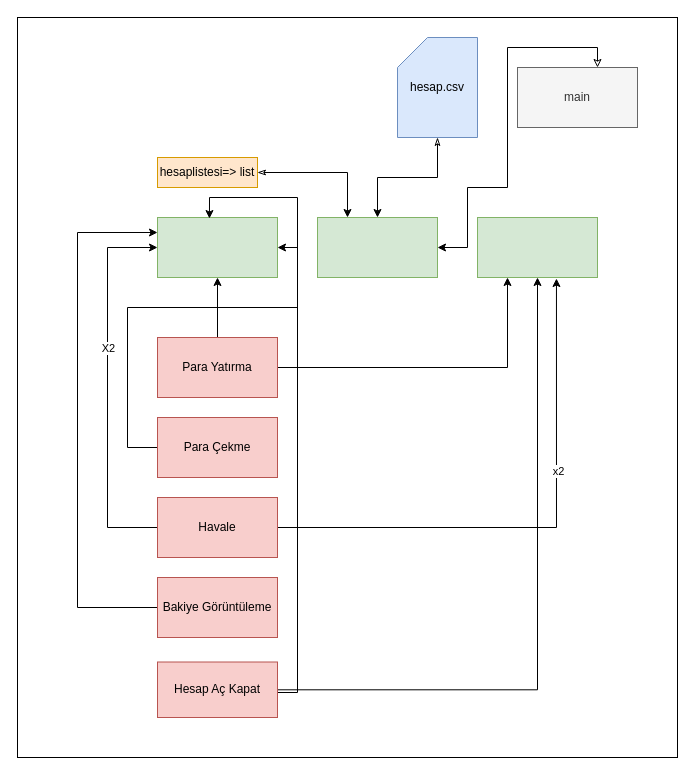
Image size: 695x775. Some labels were removed from this diagram. Here are the shapes that lost their labels. From the top down, the box of each, then its label:
(156, 216, 278, 278): hesaplistele
(316, 216, 438, 278): dosya açma kapatma
(476, 216, 598, 278): islemarac
